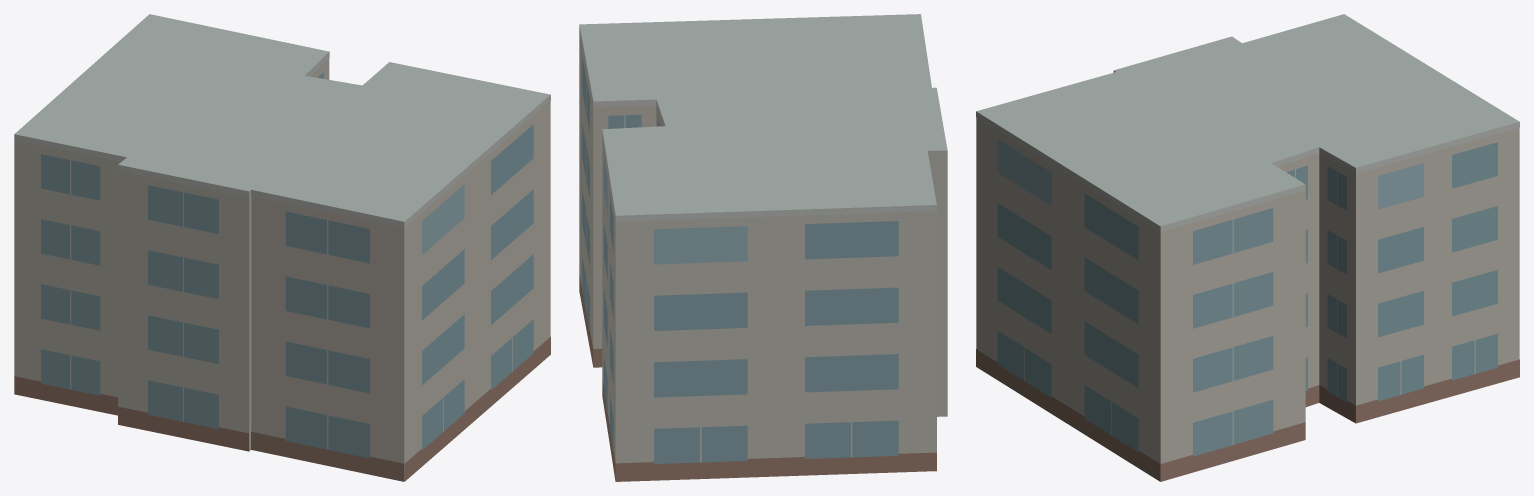
Rendered from survey-upis-33015811.glb.
3 renders of one model, left to right at view 1: azimuth 30°, elevation 25°; view 2: azimuth 150°, elevation 25°; view 3: azimuth 270°, elevation 25°, orthographic. The views are drawn at different scales.
Parts seen in each view (by area): view 1: survey-upis-33015811.tmp; view 2: survey-upis-33015811.tmp; view 3: survey-upis-33015811.tmp.
Boxes of the visible parts, x1,y1,x2,y2 form: survey-upis-33015811.tmp: [14, 14, 550, 481]; survey-upis-33015811.tmp: [579, 14, 947, 481]; survey-upis-33015811.tmp: [976, 14, 1519, 481].
Bounding box in the file's own units: 18.9 × 10.6 × 20.45.
